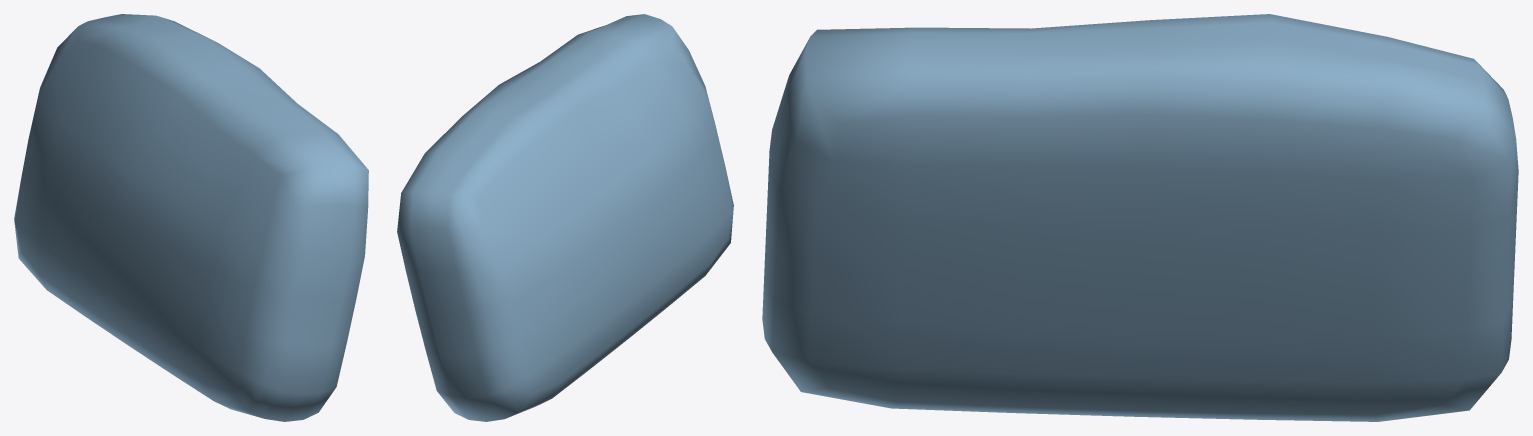
File: Pillow_02.fbx
3 views of the same model, side by side, from view 1: azimuth 30°, elevation 25°; view 2: azimuth 150°, elevation 25°; view 3: azimuth 270°, elevation 25° (orthographic). The views are drawn at different scales.
Parts seen in each view (by area): view 1: Pillow_02; view 2: Pillow_02; view 3: Pillow_02.
Boxes of the visible parts, x1=… form: Pillow_02: x1=14, y1=14, x2=368, y2=421; Pillow_02: x1=397, y1=14, x2=733, y2=421; Pillow_02: x1=762, y1=14, x2=1518, y2=421.
Size of the model in its own units: 44.47 by 73.88 by 125.
